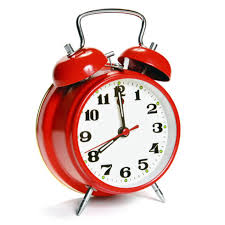alarm_clock: (35, 8, 180, 209), (46, 8, 180, 209), (46, 8, 175, 209)
